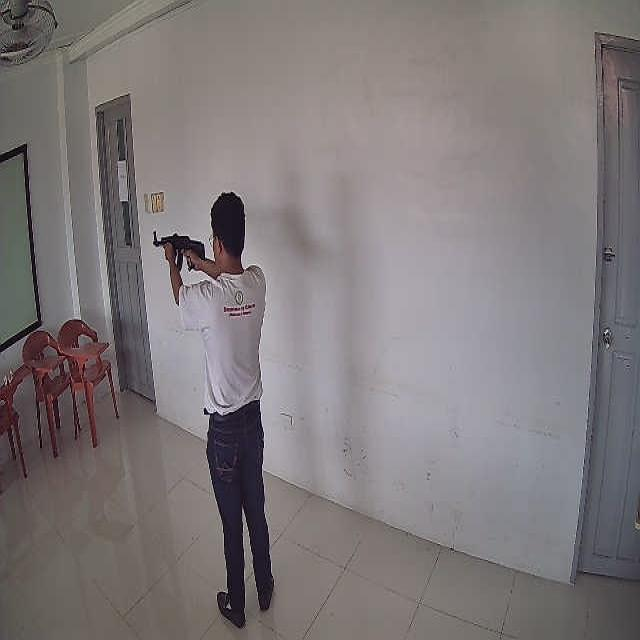rifle: (153, 231, 205, 269)
